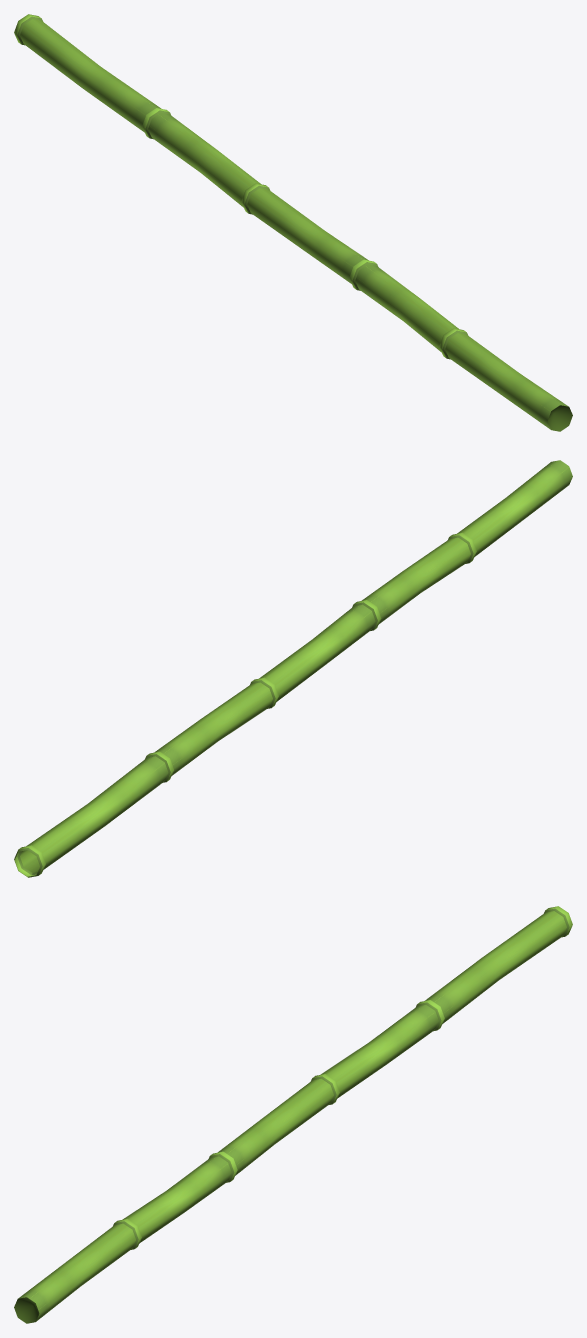
The model's file is bamboo_pole_5.fbx.
The picture shows the model from 3 angles, top to bottom: view 1: azimuth 30°, elevation 25°; view 2: azimuth 150°, elevation 25°; view 3: azimuth 330°, elevation 25°; orthographic projection.
Parts seen in each view (by area): view 1: Cylinder.026; view 2: Cylinder.026; view 3: Cylinder.026.
Boxes of the visible parts, bbox=[...] form: Cylinder.026: bbox=[14, 14, 572, 431]; Cylinder.026: bbox=[14, 460, 572, 877]; Cylinder.026: bbox=[14, 906, 572, 1323].
Bounding box in the file's own units: 69.75 × 63.43 × 2037.
